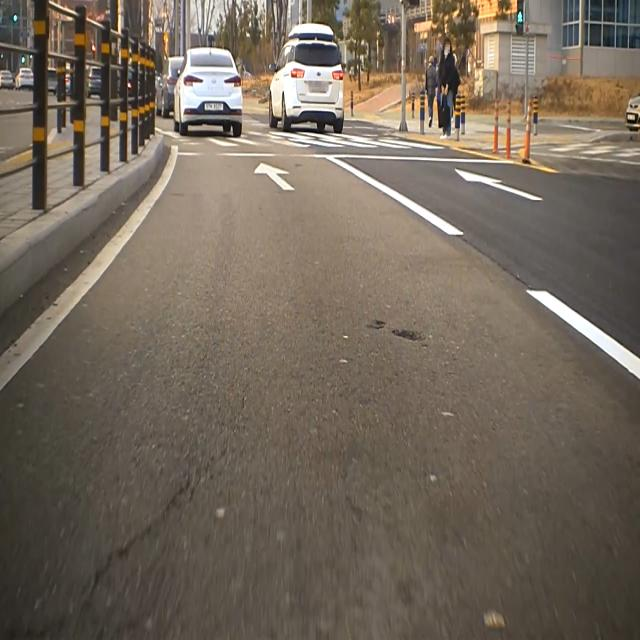Pothole: (363, 314, 426, 348)
